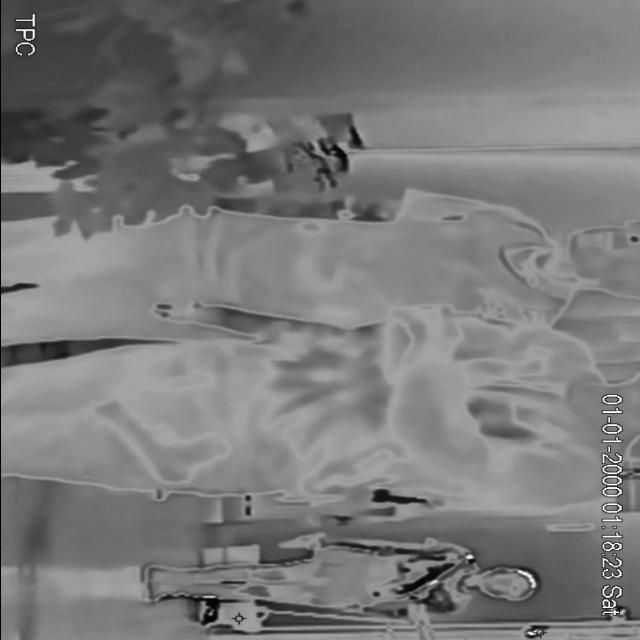Weapon: (84, 397, 242, 488)
